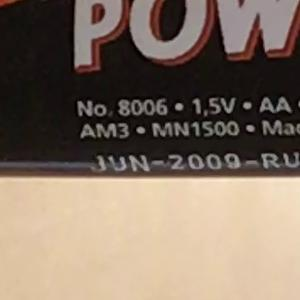1,5V: (184, 89, 244, 123)
